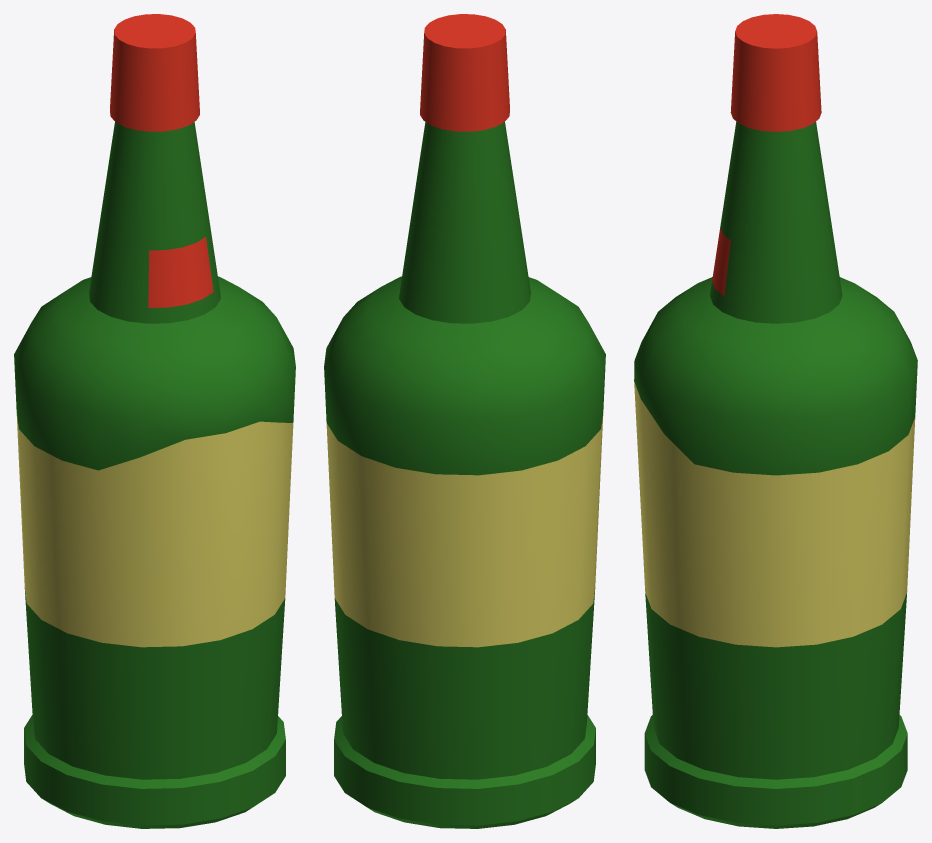
File: whiskey.fbx
3 renders of one model, left to right at view 1: azimuth 30°, elevation 25°; view 2: azimuth 150°, elevation 25°; view 3: azimuth 270°, elevation 25°, orthographic.
Parts seen in each view (by area): view 1: Whiskey; view 2: Whiskey; view 3: Whiskey.
Part boxes in pixels (x1,y1,x2,y2): Whiskey: [14, 14, 295, 828]; Whiskey: [324, 14, 605, 828]; Whiskey: [634, 14, 917, 828].
Bounding box in the file's own units: 16.3 × 16.32 × 47.38.
